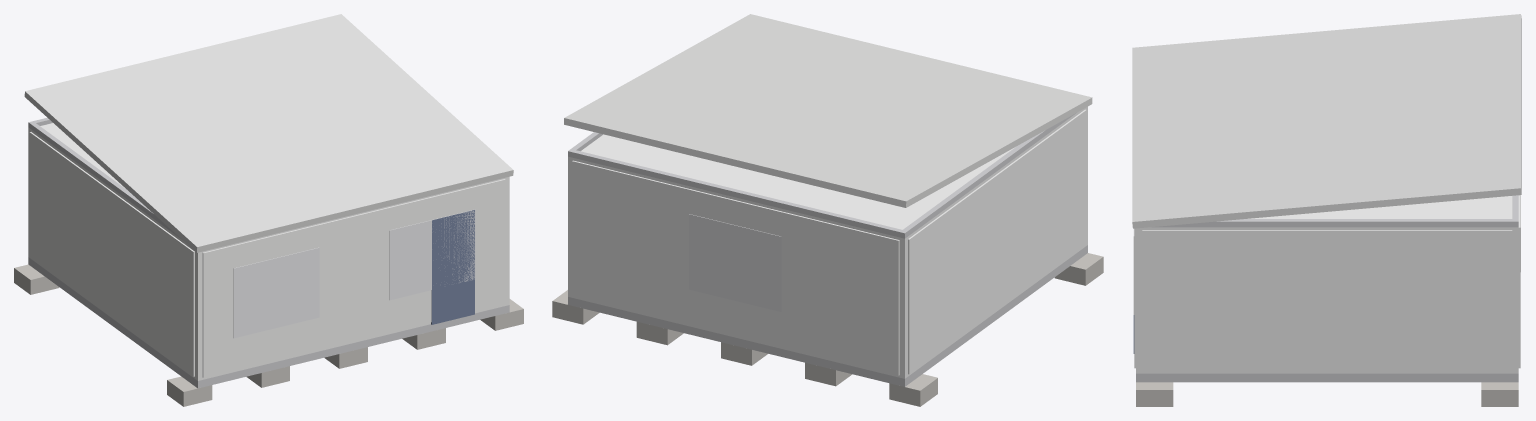
The model's file is Studio-20-Premium+SlopingRoof-LOD1.glb.
3 views of the same model, side by side, from view 1: azimuth 30°, elevation 25°; view 2: azimuth 150°, elevation 25°; view 3: azimuth 270°, elevation 25° (orthographic). The views are drawn at different scales.
Visible parts, largest first — view 1: RoofSlopingUpgrade, ExteriorPanelsPremium, WindowsLargeUpgrade, EntryDoor, FoundationBlocks, ExteriorShell, BaseFrame, TopFrame, InteriorCeiling; view 2: ExteriorPanelsPremium, RoofSlopingUpgrade, InteriorCeiling, WindowsLargeUpgrade, ExteriorShell, FoundationBlocks, TopFrame, BaseFrame; view 3: RoofSlopingUpgrade, ExteriorPanelsPremium, ExteriorShell, BaseFrame, InteriorCeiling, TopFrame, FoundationBlocks.
Part boxes in pixels (box(x1,y1,x2,y2)): RoofSlopingUpgrade: box(24, 14, 513, 252); ExteriorPanelsPremium: box(29, 132, 505, 377); WindowsLargeUpgrade: box(233, 209, 475, 338); EntryDoor: box(431, 210, 474, 324); FoundationBlocks: box(14, 264, 523, 406); ExteriorShell: box(28, 127, 509, 380); BaseFrame: box(28, 257, 509, 388); TopFrame: box(28, 117, 181, 239); InteriorCeiling: box(40, 123, 125, 188); ExteriorPanelsPremium: box(572, 109, 1086, 375); RoofSlopingUpgrade: box(564, 14, 1092, 207); InteriorCeiling: box(581, 134, 1015, 229); WindowsLargeUpgrade: box(689, 214, 781, 312); ExteriorShell: box(568, 106, 1087, 378); FoundationBlocks: box(552, 253, 1103, 406); TopFrame: box(568, 113, 1075, 238); BaseFrame: box(568, 245, 1087, 386); RoofSlopingUpgrade: box(1132, 14, 1521, 228); ExteriorPanelsPremium: box(1134, 195, 1520, 371); ExteriorShell: box(1136, 227, 1518, 373); BaseFrame: box(1136, 373, 1518, 382); InteriorCeiling: box(1248, 196, 1512, 218); TopFrame: box(1152, 195, 1518, 227); FoundationBlocks: box(1136, 382, 1518, 406).
Bounding box in the file's own units: 7.14 × 3.77 × 6.27.
